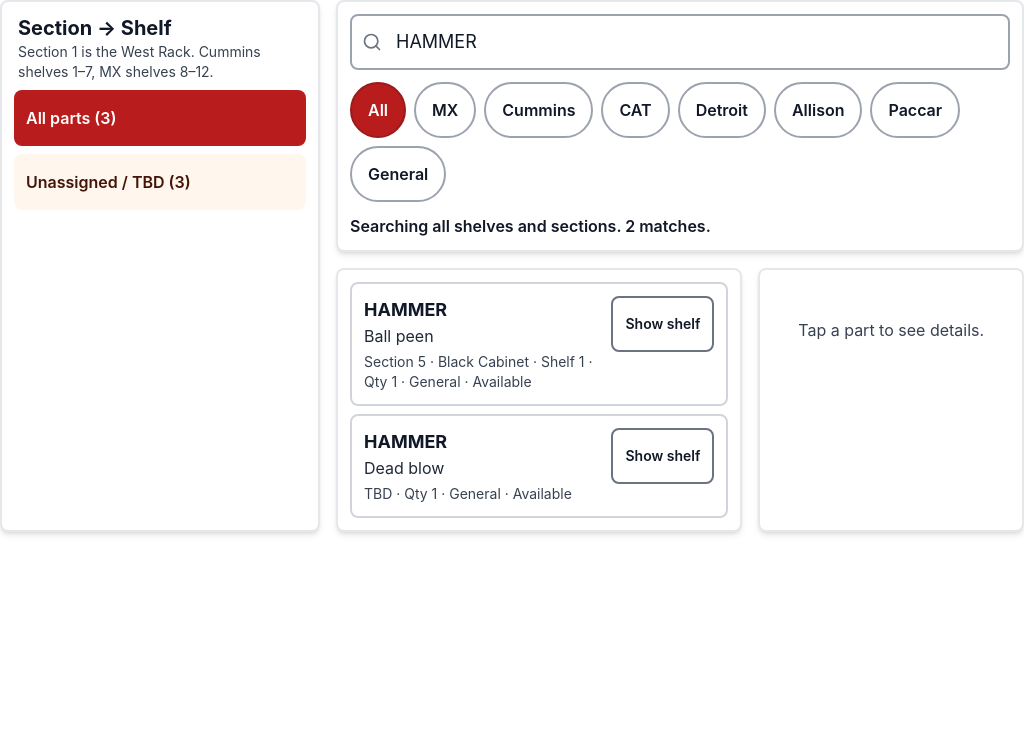
it: part detail names other rows that share the part number
The image size is (1024, 755).
Expected: the 1st text "HAMMER" is shown, [364, 299, 447, 320]
Click the text "Ball peen" at (399, 336), box [364, 326, 434, 346]
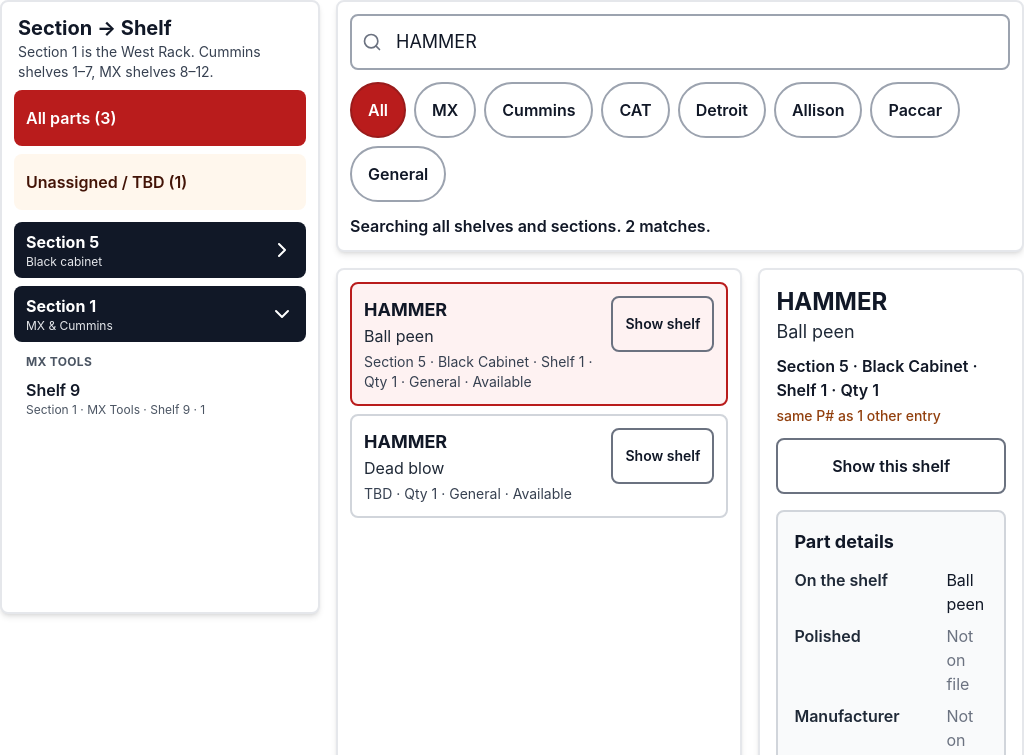
Expected: the text "same P# as 1 other entry" is shown, [776, 407, 941, 424]
